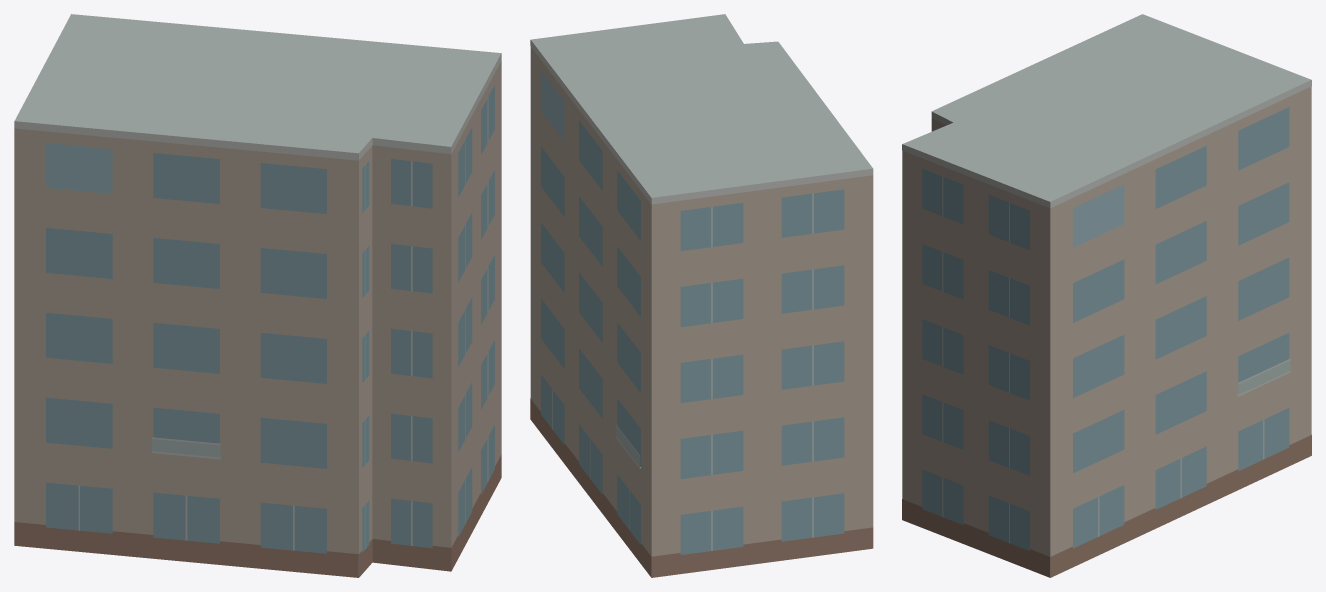
The model's file is survey-upis-32948720.glb.
The picture shows the model from 3 angles, left to right: view 1: azimuth 30°, elevation 25°; view 2: azimuth 150°, elevation 25°; view 3: azimuth 270°, elevation 25°; orthographic projection. The views are drawn at different scales.
Visible parts, largest first — view 1: survey-upis-32948720.tmp; view 2: survey-upis-32948720.tmp; view 3: survey-upis-32948720.tmp.
Part boxes in pixels (x1,y1,x2,y2): survey-upis-32948720.tmp: (14, 14, 501, 577); survey-upis-32948720.tmp: (530, 14, 873, 577); survey-upis-32948720.tmp: (902, 14, 1311, 577).
Bounding box in the file's own units: 15.24 × 14.2 × 14.03.
